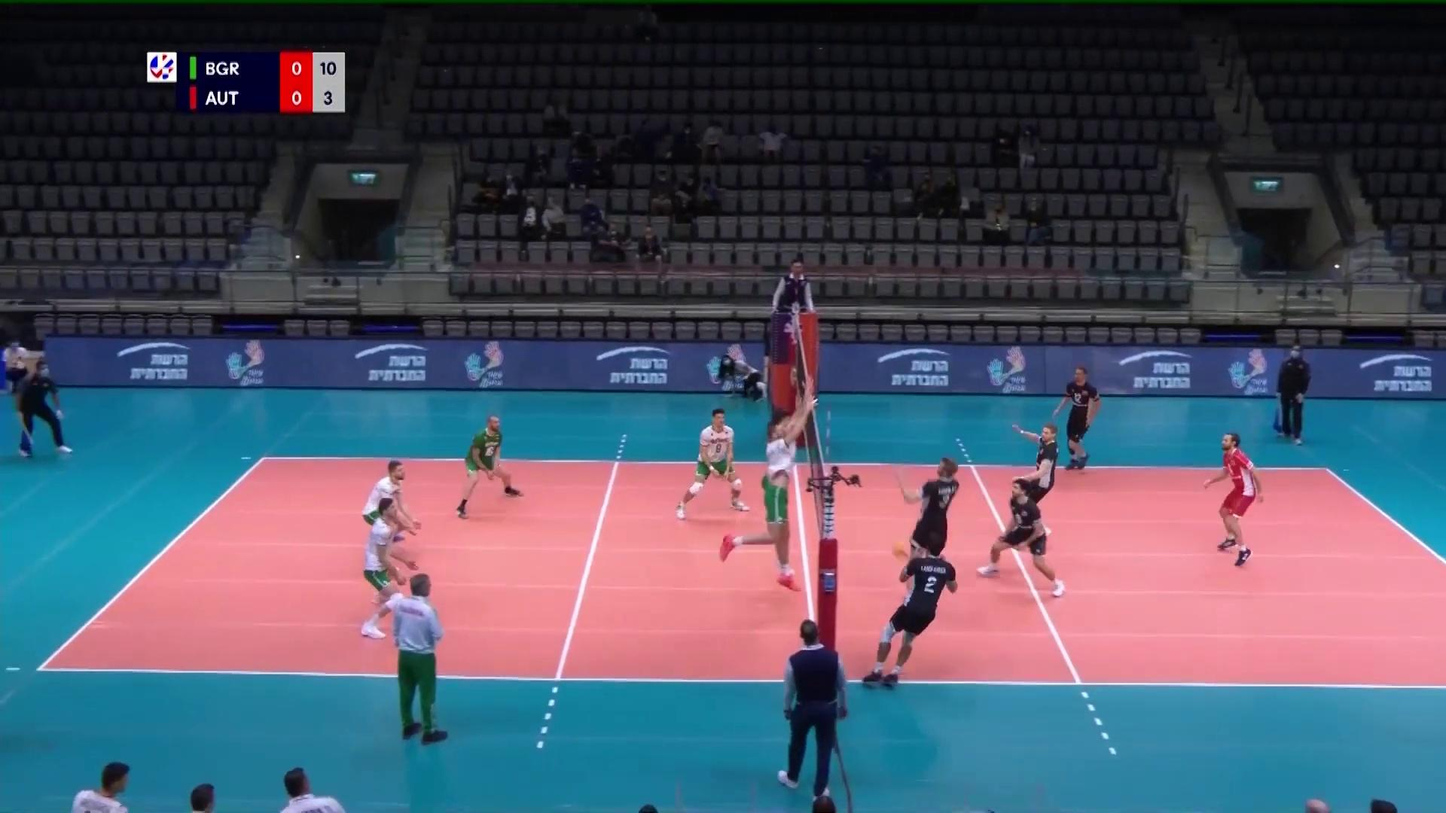ball: (889, 543, 909, 561)
